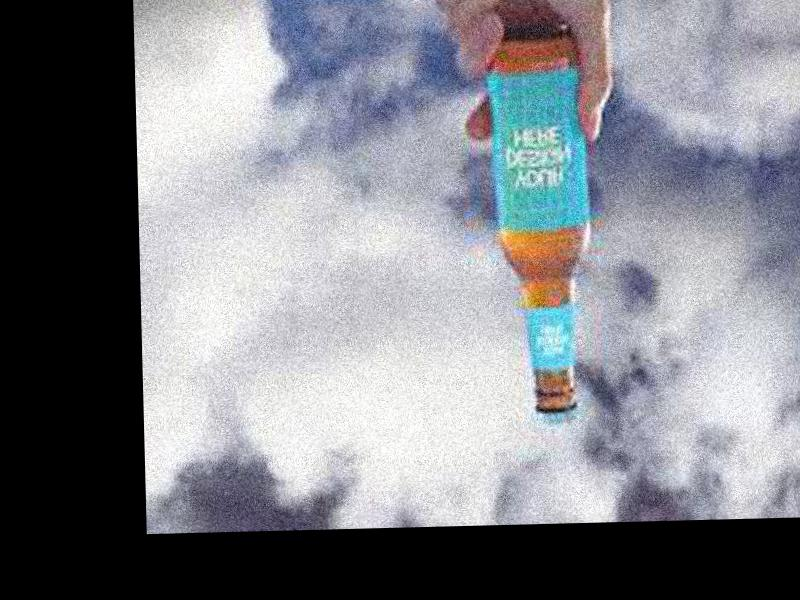Beer: (495, 30, 595, 422)
